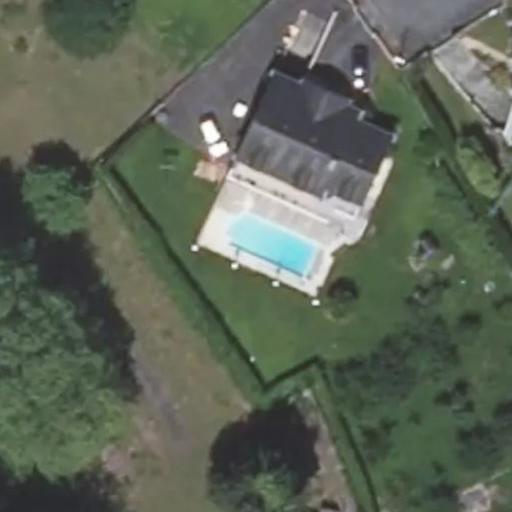pool: (201, 229, 308, 247)
